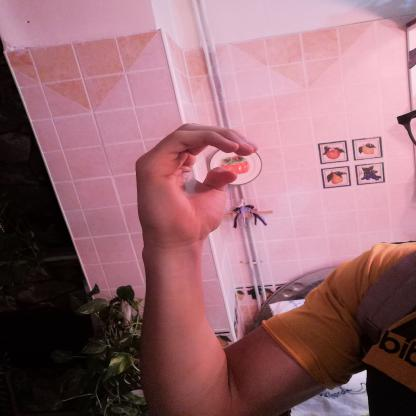JEEM: (118, 113, 272, 257)
